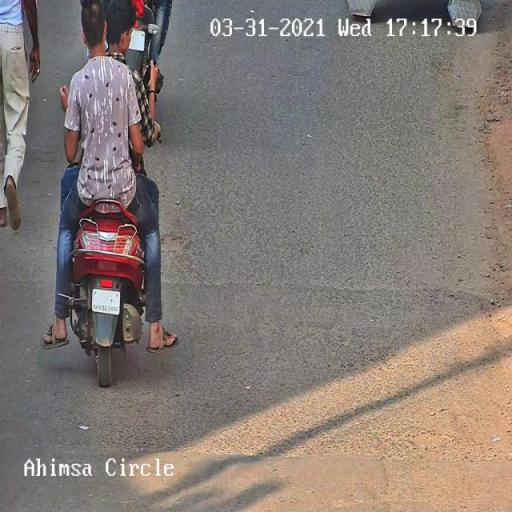tripple riding: (52, 0, 168, 194)
